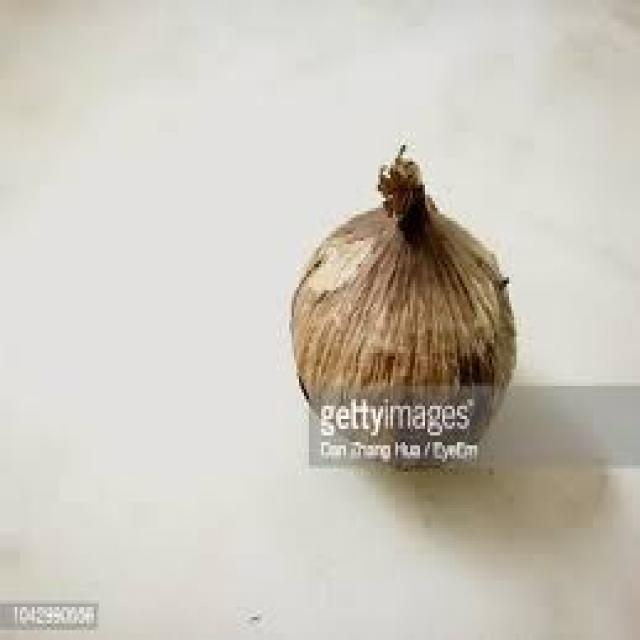Onion: (292, 139, 522, 472)
